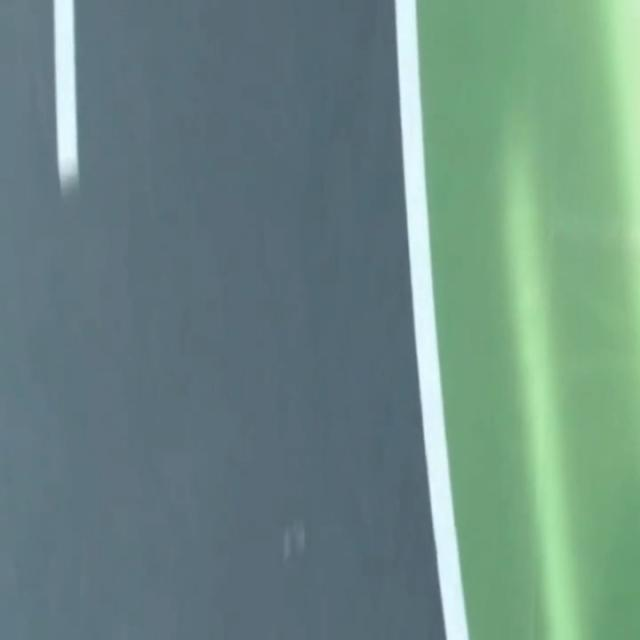center: (53, 0, 78, 192)
right: (395, 0, 468, 639)
